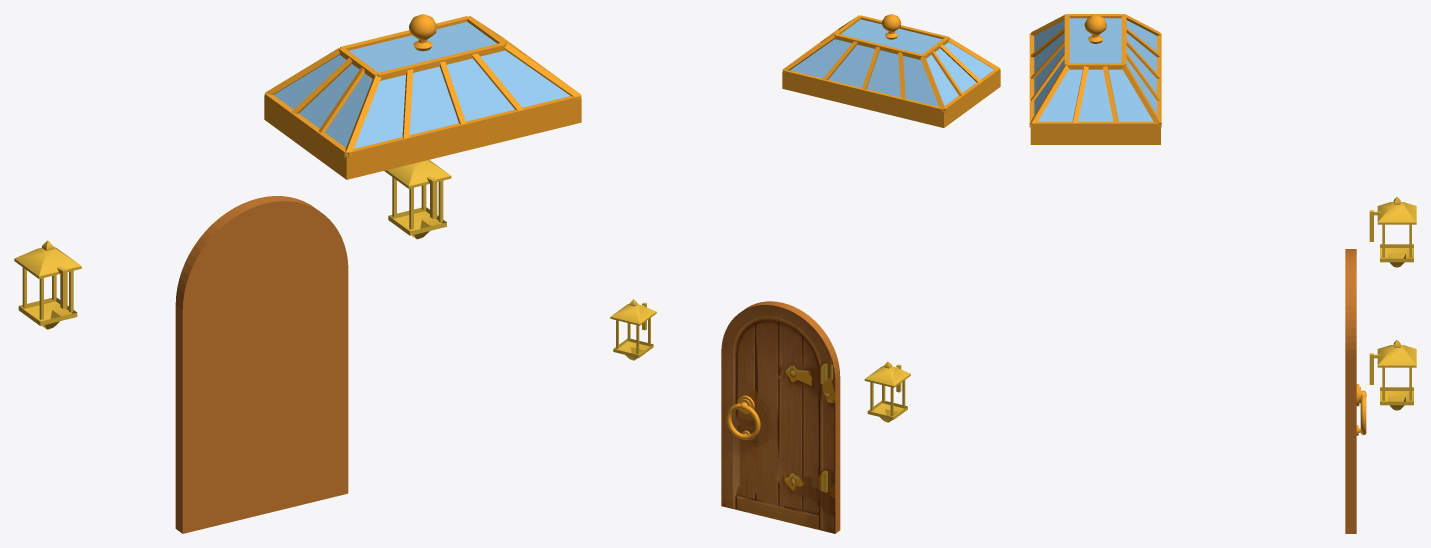
Rendered from HaloDomeHouse_05_deco.glb.
The picture shows the model from 3 angles, left to right: view 1: azimuth 30°, elevation 25°; view 2: azimuth 150°, elevation 25°; view 3: azimuth 270°, elevation 25°; orthographic projection. The views are drawn at different scales.
Parts seen in each view (by area): view 1: HaloDomeHouse_05_Leaf, HaloDomeHouse_05_RoofGlass, HaloDomeHouse_05_RoofFrame, HaloDomeHouse_05_Lantern0, HaloDomeHouse_05_Lantern1, HaloDomeHouse_05_RoofFinial; view 2: HaloDomeHouse_05_Leaf, HaloDomeHouse_05_RoofGlass, HaloDomeHouse_05_RoofFrame, HaloDomeHouse_05_Lantern0, HaloDomeHouse_05_Lantern1, Orn_HaloDomeHouse_05_Knocker; view 3: HaloDomeHouse_05_RoofGlass, HaloDomeHouse_05_RoofFrame, HaloDomeHouse_05_Leaf, HaloDomeHouse_05_Lantern0, HaloDomeHouse_05_Lantern1, HaloDomeHouse_05_RoofFinial.
Boxes of the visible parts, x1,y1,x2,y2 form: HaloDomeHouse_05_Leaf: (175,196,348,533); HaloDomeHouse_05_RoofGlass: (274,21,569,148); HaloDomeHouse_05_RoofFrame: (264,16,581,179); HaloDomeHouse_05_Lantern0: (14,240,81,329); HaloDomeHouse_05_Lantern1: (384,160,451,239); HaloDomeHouse_05_RoofFinial: (409,14,436,51); HaloDomeHouse_05_Leaf: (721,301,840,533); HaloDomeHouse_05_RoofGlass: (790,19,993,106); HaloDomeHouse_05_RoofFrame: (782,15,1000,127); HaloDomeHouse_05_Lantern0: (864,361,910,422); HaloDomeHouse_05_Lantern1: (610,299,656,360); Orn_HaloDomeHouse_05_Knocker: (726,395,760,439); HaloDomeHouse_05_RoofGlass: (1034,18,1156,121); HaloDomeHouse_05_RoofFrame: (1029,14,1161,144); HaloDomeHouse_05_Leaf: (1345,249,1356,533); HaloDomeHouse_05_Lantern0: (1369,197,1416,267); HaloDomeHouse_05_Lantern1: (1369,340,1416,410); HaloDomeHouse_05_RoofFinial: (1084,14,1106,43).
Size of the model in its own units: 10.71 by 15.26 by 10.99.
Materials: 5 (1 with a texture image).
